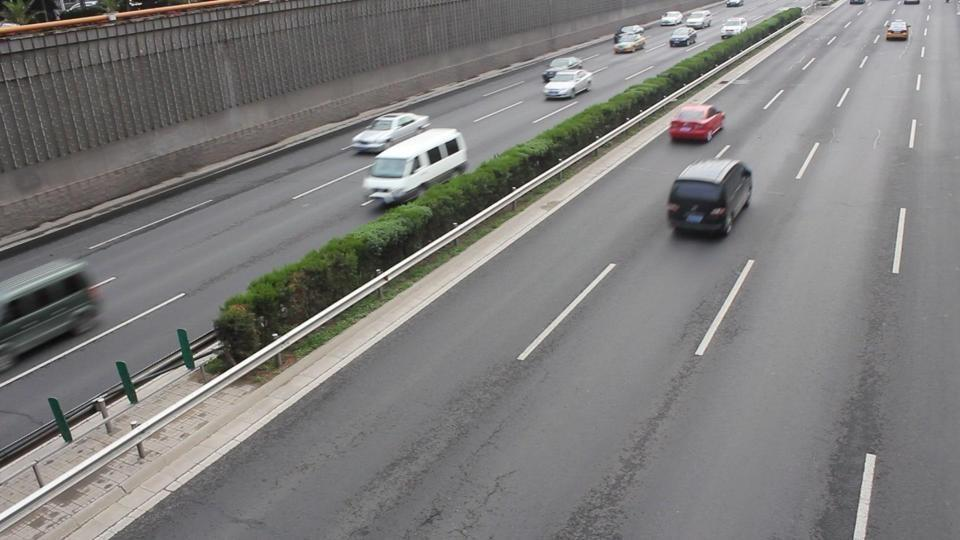car: (1, 257, 108, 364), (361, 127, 468, 207), (666, 157, 755, 238), (351, 112, 426, 155), (667, 102, 726, 144), (543, 68, 593, 99), (613, 27, 647, 54), (669, 27, 697, 49), (884, 18, 910, 41), (720, 16, 747, 38), (685, 9, 713, 29), (659, 11, 684, 26), (726, 0, 744, 8)
